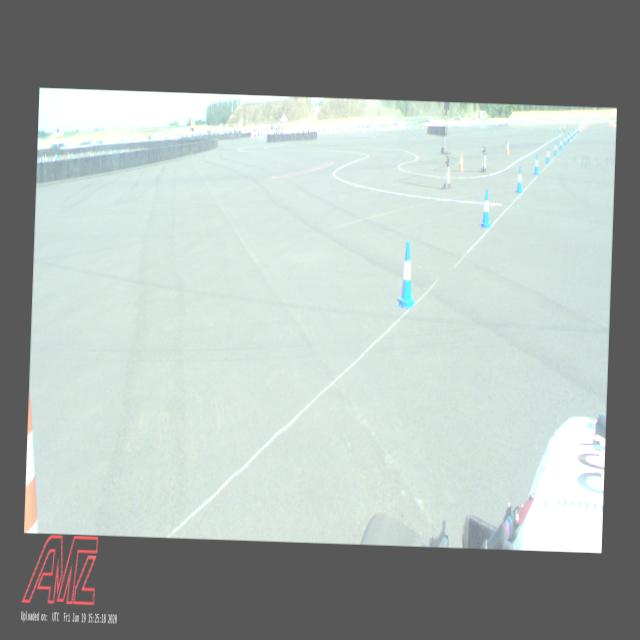blue_cone: (396, 242, 416, 308), (480, 189, 491, 227), (515, 167, 523, 193), (545, 146, 550, 164), (534, 154, 538, 174), (553, 141, 557, 155), (559, 137, 562, 149), (563, 134, 566, 144), (570, 130, 572, 140), (572, 128, 574, 137), (567, 132, 569, 141), (574, 127, 576, 136), (576, 126, 578, 134), (578, 125, 579, 132)
large_orange_cone: (24, 380, 44, 530)
orange_cone: (458, 153, 464, 171), (505, 141, 509, 154)
